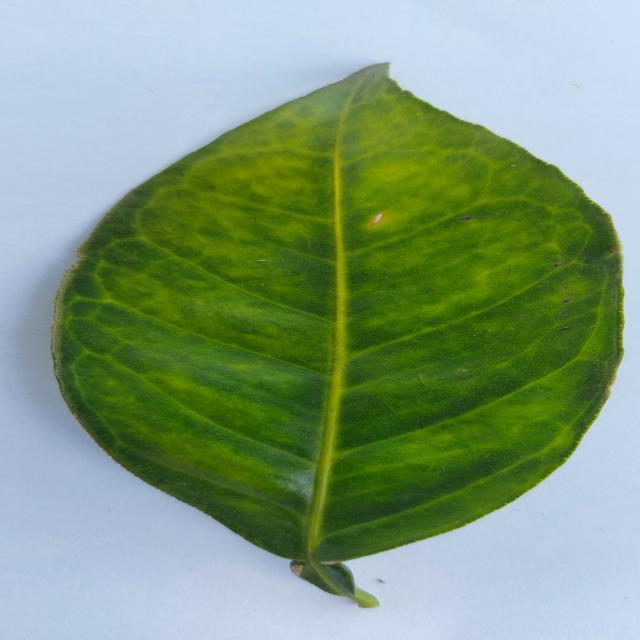greening: (53, 64, 621, 607)
